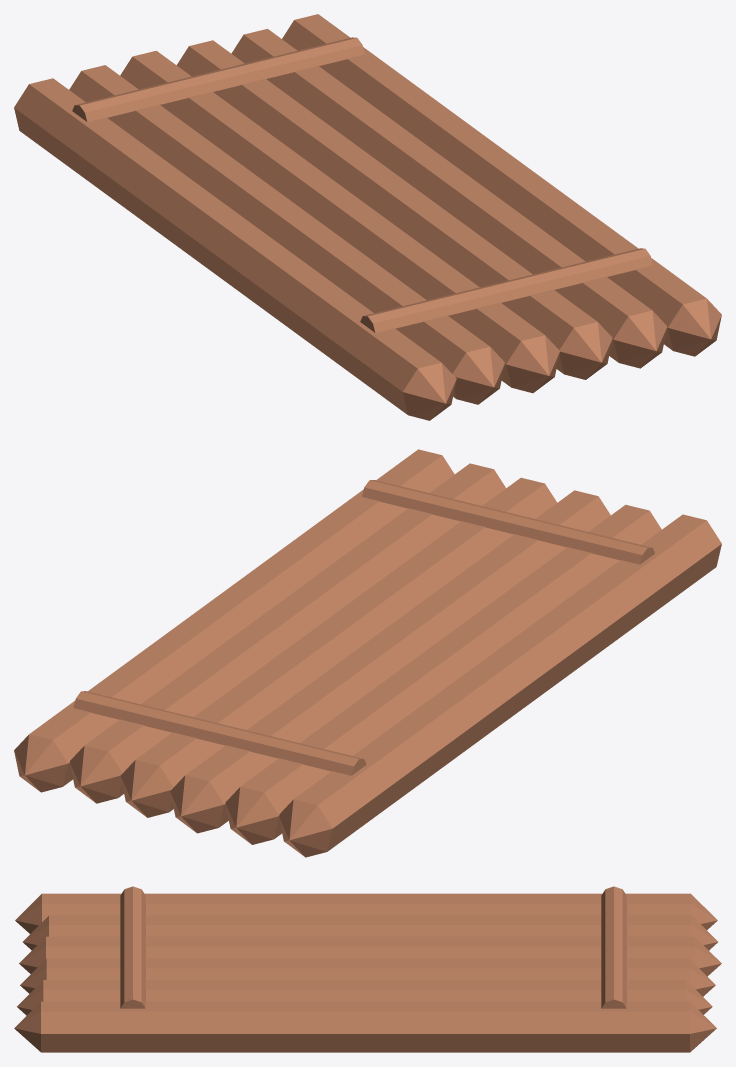
Rendered from Raft_2.fbx.
3 renders of one model, top to bottom at view 1: azimuth 30°, elevation 25°; view 2: azimuth 150°, elevation 25°; view 3: azimuth 270°, elevation 25°, orthographic. The views are drawn at different scales.
Visible parts, largest first — view 1: pCylinder4; view 2: pCylinder4; view 3: pCylinder4.
Boxes of the visible parts, x1=… form: pCylinder4: x1=14, y1=14, x2=721, y2=420; pCylinder4: x1=14, y1=449, x2=721, y2=857; pCylinder4: x1=14, y1=886, x2=721, y2=1052.
Bounding box in the file's own units: 5.74 × 1.14 × 13.22.
